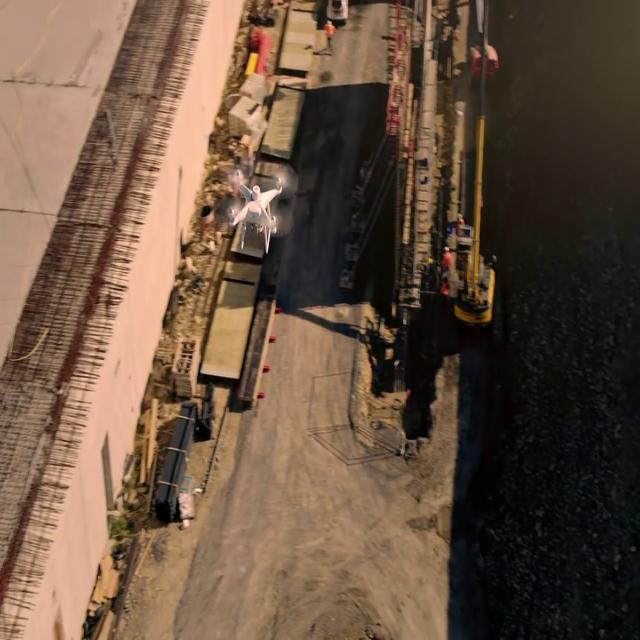drone: (222, 162, 298, 249)
